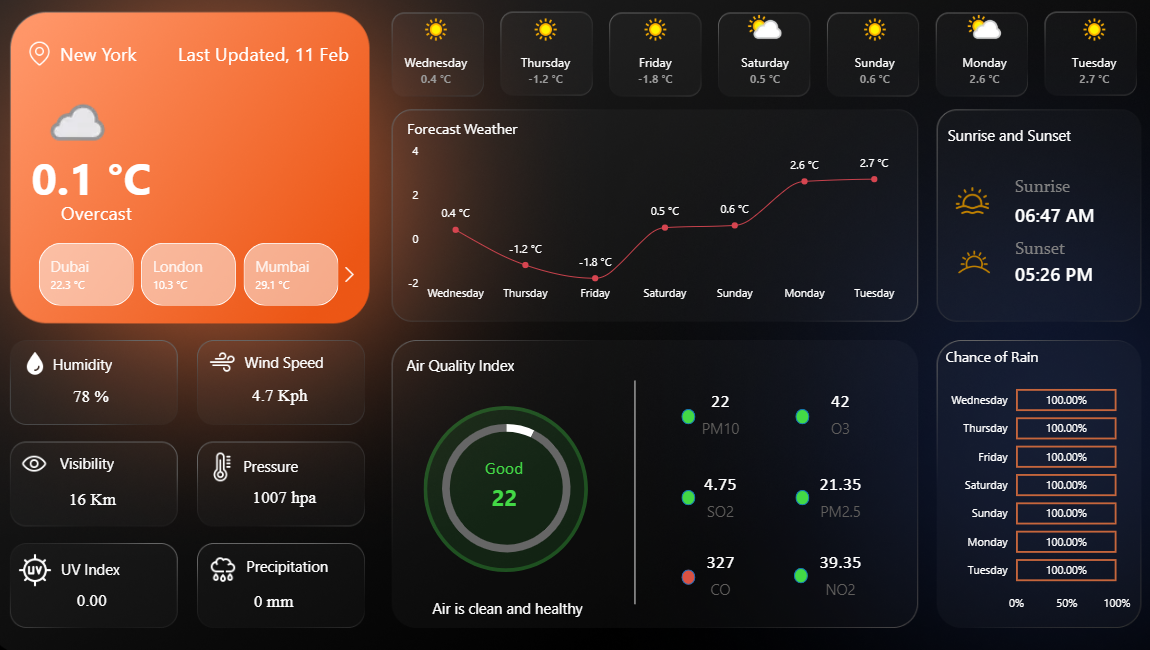

Layout of this report page (visuals, bound fields, positions):
{"tool":"powerbi","page":{"name":"Weather_Dashboard","canvas":[1280,720],"ordinal":0},"visuals":[{"type":"advancedSlicerVisual","fields":{"Values":["Location.location.name"]},"box":[30.9,266.8,377.4,78.1],"z":0},{"type":"shape","box":[39,136.6,226.1,126.9],"z":1000},{"type":"shape","box":[39,221.2,159.4,35.8],"z":2000},{"type":"shape","box":[177.3,48.8,218,35.8],"z":3000},{"type":"shape","box":[76.4,48.8,178.9,35.8],"z":4000},{"type":"image","box":[43.9,50.4,26,32.5],"z":5000},{"type":"cardVisual","fields":{"Data":["Min(Current.current.condition.icon)"]},"box":[21.4,0,167.1,200],"z":6000},{"type":"image","box":[36.6,496.9,30.8,30.8],"z":7000},{"type":"image","box":[241.4,380,28.6,41.4],"z":8000},{"type":"image","box":[38.6,387.1,25.7,31.4],"z":9000},{"type":"image","box":[234.3,610,42.9,32.9],"z":10000},{"type":"image","box":[207.1,500,97.1,31.4],"z":11000},{"type":"image","box":[11.4,608.6,81.4,37.1],"z":12000},{"type":"shape","box":[9.8,385.5,128.5,34.2],"z":13000},{"type":"shape","box":[239.1,383.9,128.5,34.2],"z":14000},{"type":"shape","box":[17.9,610,128.5,32.5],"z":15000},{"type":"shape","box":[13.5,493,127.1,34.7],"z":16000},{"type":"shape","box":[211.5,496.1,128.5,34.2],"z":17000},{"type":"shape","box":[244,605.1,128.5,34.2],"z":18000},{"type":"card","fields":{"Values":["_Measure.Humidity"]},"box":[45.1,407.8,133.5,61.4],"z":19000},{"type":"card","fields":{"Values":["_Measures.Wind_Speed"]},"box":[265.1,405,104.1,66.7],"z":20000},{"type":"card","fields":{"Values":["_Measure.Visibility"]},"box":[61.4,517.9,104.7,66.8],"z":21000},{"type":"card","fields":{"Values":["_Measure.Pressure"]},"box":[270,515.6,104.1,66.7],"z":22000},{"type":"card","fields":{"Values":["_Measure.UV_Index"]},"box":[61.4,628,102.9,65],"z":23000},{"type":"card","fields":{"Values":["_Measure.Precipitation"]},"box":[258,628,104,66],"z":24000},{"type":"advancedSlicerVisual","fields":{"Values":["Forecast_Day.Day_Name"]},"box":[426.2,13,840.9,107.4],"z":25000},{"type":"lineChart","title":"Forecast Weather","fields":{"Y":["Sum(Forecast_Day.forecast.forecastday.day.avgtemp_c)"],"Category":["Forecast_Day.Day_Name"]},"box":[450.6,138.3,546.5,206.6],"z":26000},{"type":"shape","box":[1040,138.3,205,33.3],"z":27000},{"type":"shape","box":[1112.6,226.1,144.8,30.9],"z":28000},{"type":"shape","box":[1112.6,289.5,144.8,30.9],"z":29000},{"type":"shape","box":[1112.8,194.9,144.8,30.9],"z":30000},{"type":"shape","box":[1112,262,146,32],"z":31000},{"type":"image","box":[1048,268,46,48],"z":32000},{"type":"image","box":[1045.9,208.2,45.5,35.8],"z":33000},{"type":"hundredPercentStackedBarChart","title":"Chance of Rain","fields":{"Y":["Sum(Forecast_Day.forecast.forecastday.day.daily_chance_of_rain)","_Measures.Left_value_rain"],"Category":["Forecast_Day.Day_Name"]},"box":[1035,385,210,295],"z":34000},{"type":"shape","box":[451.7,386.7,205,33.3],"z":35000},{"type":"card","fields":{"Values":["Sum(Current.current.air_quality.o3)"]},"box":[873.3,421.7,103.3,66.7],"z":36000},{"type":"card","fields":{"Values":["Sum(Current.current.air_quality.so2)"]},"box":[743.3,510,103.3,66.7],"z":37000},{"type":"card","fields":{"Values":["Sum(Current.current.air_quality.no2)"]},"box":[873.3,595,103.3,66.7],"z":38000},{"type":"card","fields":{"Values":["Sum(Current.current.air_quality.pm2_5)"]},"box":[873.3,510,103.3,66.7],"z":39000},{"type":"card","fields":{"Values":["Sum(Current.current.air_quality.pm10)"]},"box":[743.3,421.7,103.3,66.7],"z":40000},{"type":"card","fields":{"Values":["Sum(Current.current.air_quality.co)"]},"box":[743.3,595,103.3,66.7],"z":41000},{"type":"shape","box":[473.3,448.3,178.3,180],"z":42000},{"type":"card","fields":{"Values":["Sum(Current.current.air_quality.pm10)"]},"box":[508.3,505,103.3,66.7],"z":43000},{"type":"shape","box":[672.1,421.8,61.6,242.7],"z":44000},{"type":"donutChart","fields":{"Y":["Sum(Current.current.air_quality.pm10)","_Measure.Left_Value_PM10"]},"box":[454.7,445.7,214.7,184.1],"z":45000},{"type":"shape","box":[461.7,641.7,205,53.3],"z":46000},{"type":"shape","box":[753.3,451.7,15,16.7],"z":47000},{"type":"shape","box":[753.3,626.7,15,16.7],"z":48000},{"type":"shape","box":[753.3,540,15,16.7],"z":49000},{"type":"shape","box":[876.7,451.7,15,16.7],"z":50000},{"type":"shape","box":[876.7,540,15,16.7],"z":51000},{"type":"shape","box":[875,625,15,16.7],"z":52000}]}

Visuals, with their boxes in screenshot pixels (x1, y1, x2, y2), scaled from the page's 1280x720 canvas onto the 1150x650 screenshot:
advancedSlicerVisual - Location.location.name: 28:241:367:311
shape: 35:123:238:238
shape: 35:200:178:232
shape: 159:44:355:76
shape: 69:44:229:76
image: 39:46:63:75
cardVisual - Min(Current.current.condition.icon): 19:0:169:181
image: 33:449:61:476
image: 217:343:243:380
image: 35:349:58:378
image: 211:551:249:580
image: 186:451:273:480
image: 10:549:83:583
shape: 9:348:124:379
shape: 215:347:330:377
shape: 16:551:132:580
shape: 12:445:126:476
shape: 190:448:305:479
shape: 219:546:335:577
card - _Measure.Humidity: 41:368:160:424
card - _Measures.Wind_Speed: 238:366:332:426
card - _Measure.Visibility: 55:468:149:528
card - _Measure.Pressure: 243:465:336:526
card - _Measure.UV_Index: 55:567:148:626
card - _Measure.Precipitation: 232:567:325:627
advancedSlicerVisual - Forecast_Day.Day_Name: 383:12:1138:109
"Forecast Weather" lineChart: 405:125:896:311
shape: 934:125:1119:155
shape: 1000:204:1130:232
shape: 1000:261:1130:289
shape: 1000:176:1130:204
shape: 999:237:1130:265
image: 942:242:983:285
image: 940:188:981:220
"Chance of Rain" hundredPercentStackedBarChart: 930:348:1119:614
shape: 406:349:590:379
card - Sum(Current.current.air_quality.o3): 785:381:877:441
card - Sum(Current.current.air_quality.so2): 668:460:761:521
card - Sum(Current.current.air_quality.no2): 785:537:877:597
card - Sum(Current.current.air_quality.pm2_5): 785:460:877:521
card - Sum(Current.current.air_quality.pm10): 668:381:761:441
card - Sum(Current.current.air_quality.co): 668:537:761:597
shape: 425:405:585:567
card - Sum(Current.current.air_quality.pm10): 457:456:549:516
shape: 604:381:659:600
donutChart - Sum(Current.current.air_quality.pm10) x _Measure.Left_Value_PM10: 409:402:601:569
shape: 415:579:599:627
shape: 677:408:690:423
shape: 677:566:690:581
shape: 677:488:690:503
shape: 788:408:801:423
shape: 788:488:801:503
shape: 786:564:800:579
